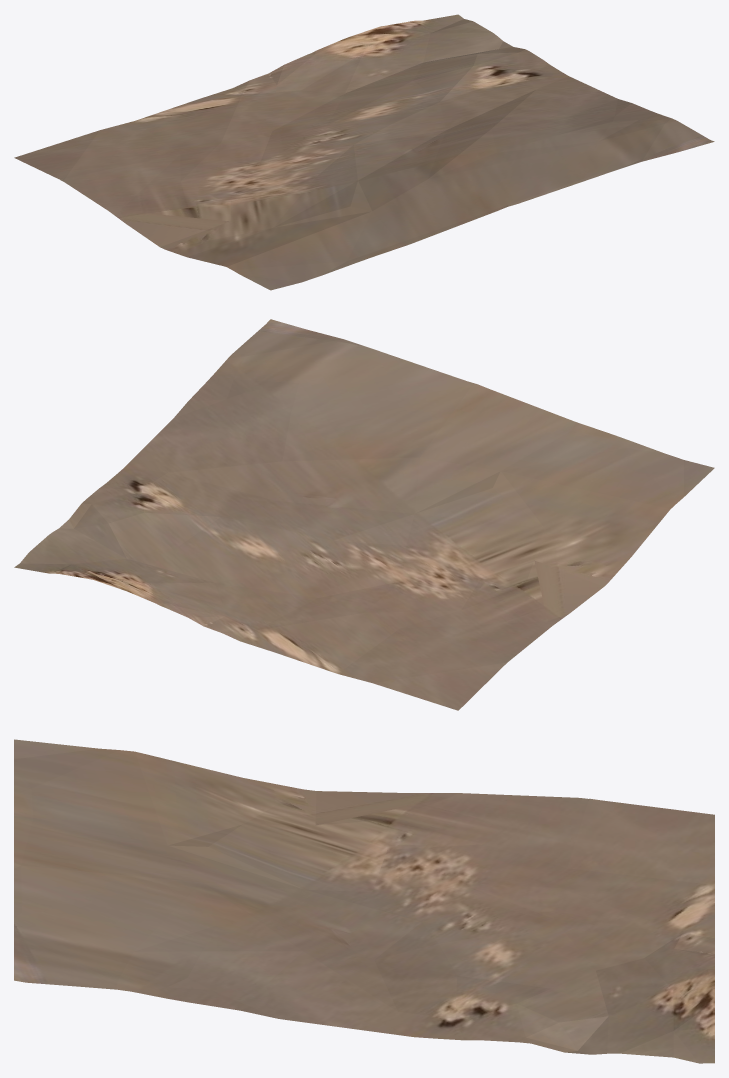
The picture shows the model from 3 angles, top to bottom: view 1: azimuth 30°, elevation 25°; view 2: azimuth 150°, elevation 25°; view 3: azimuth 270°, elevation 25°; orthographic projection. The views are drawn at different scales.
Bounding box in the file's own units: 1.04 × 0.2144 × 1.04.
3 materials, 3 textured.
